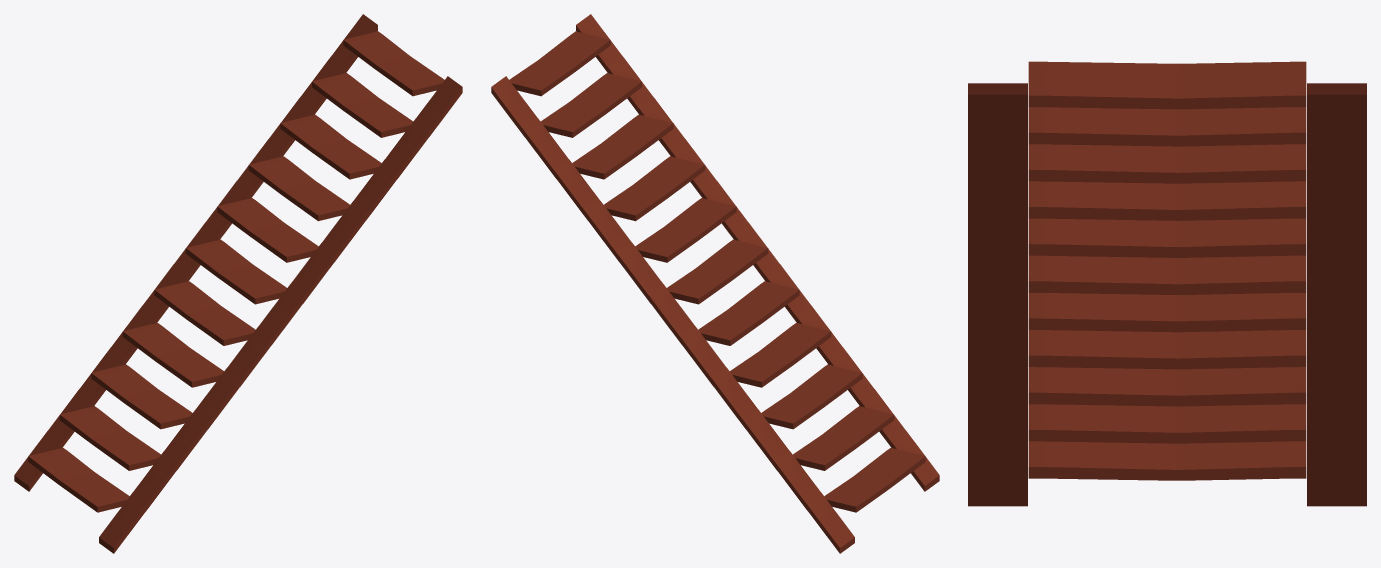
File: Stairs.fbx
3 views of the same model, side by side, from view 1: azimuth 30°, elevation 25°; view 2: azimuth 150°, elevation 25°; view 3: azimuth 270°, elevation 25° (orthographic). The views are drawn at different scales.
Parts seen in each view (by area): view 1: Stairs.001; view 2: Stairs.001; view 3: Stairs.001.
Part boxes in pixels (bbox=[...]): Stairs.001: bbox=[14, 14, 462, 553]; Stairs.001: bbox=[491, 14, 939, 553]; Stairs.001: bbox=[968, 61, 1366, 506].
Size of the model in its own units: 790 by 824 by 390.
